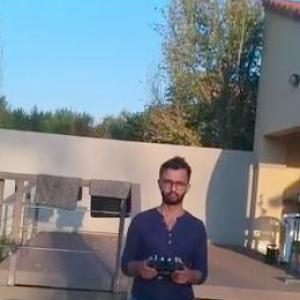follow: (116, 148, 212, 299)
